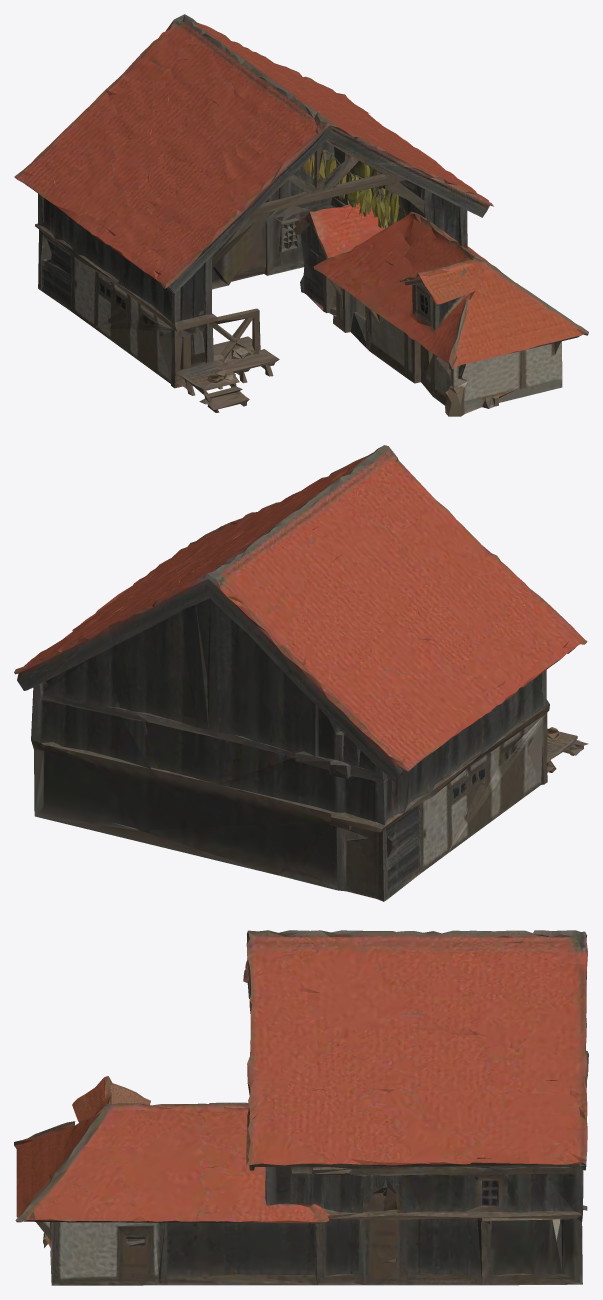
The model's file is tabakplantage.glb.
3 views of the same model, one above another, from view 1: azimuth 30°, elevation 25°; view 2: azimuth 150°, elevation 25°; view 3: azimuth 270°, elevation 25° (orthographic). The views are drawn at different scales.
Visible parts, largest first — view 1: output_unwrapped; view 2: output_unwrapped; view 3: output_unwrapped.
Part boxes in pixels (x1,y1,x2,y2): output_unwrapped: (14, 14, 588, 416); output_unwrapped: (14, 445, 588, 901); output_unwrapped: (14, 930, 588, 1285).
Size of the model in its own units: 1.35 by 0.9312 by 1.77.
1 material, 1 textured.
